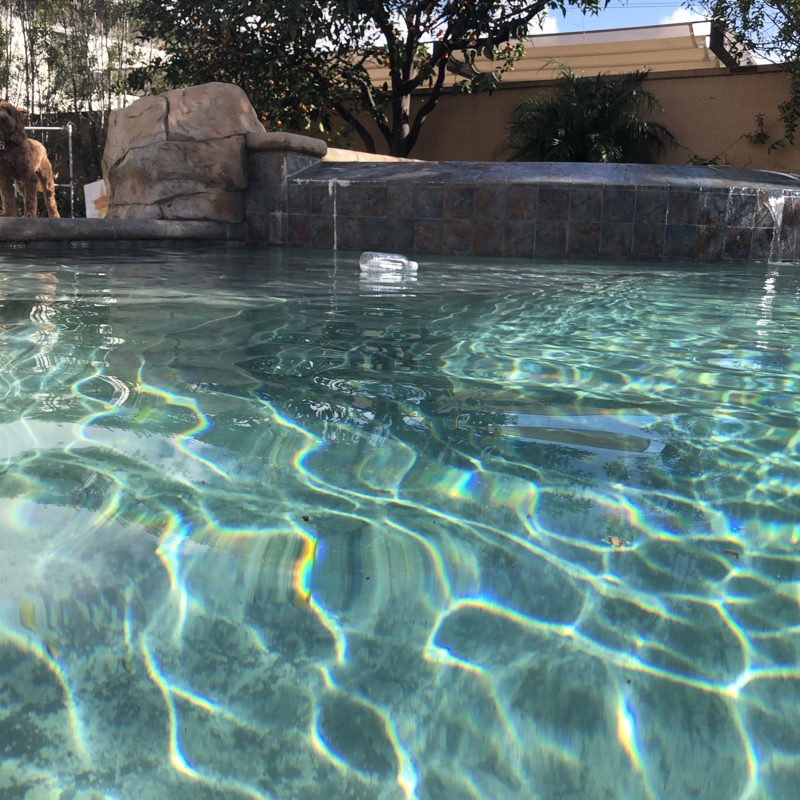Plastic Bottle: (358, 247, 419, 283)
